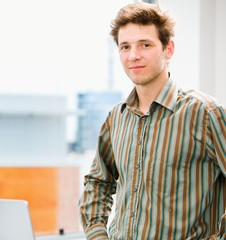young: (105, 10, 181, 84)
